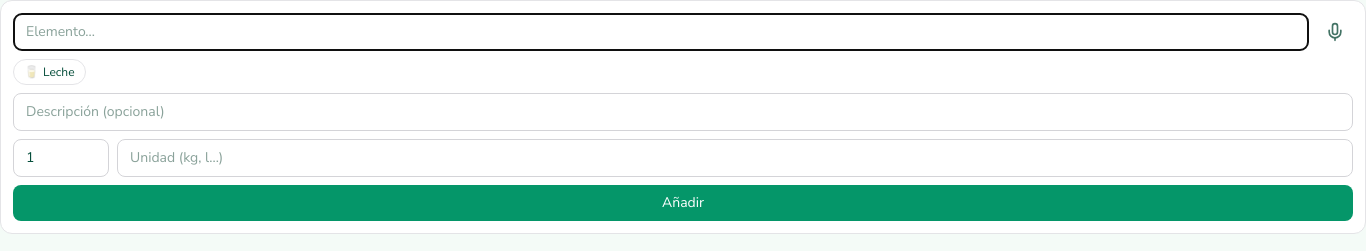
it: AddItemForm › muestra chips de la despensa como sugerencias y usa el nombre al tocarlas
Click the button with aria-label "Usar Leche" at (49,72), box [13,59,86,85]
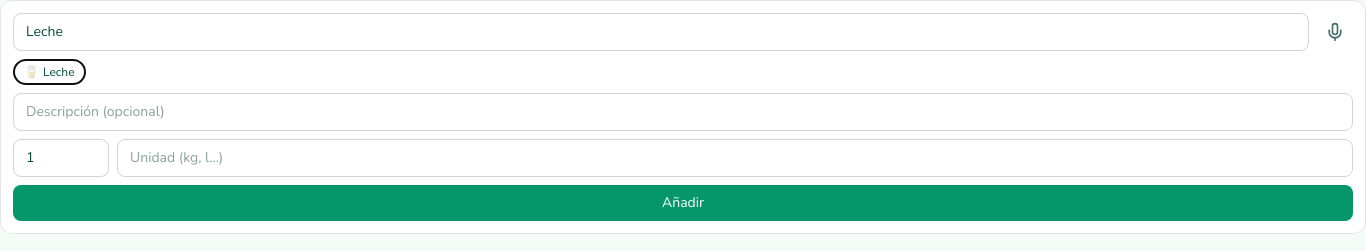
Expected: the field named "Nombre del elemento" holds "Leche", [13,13,1309,51]
